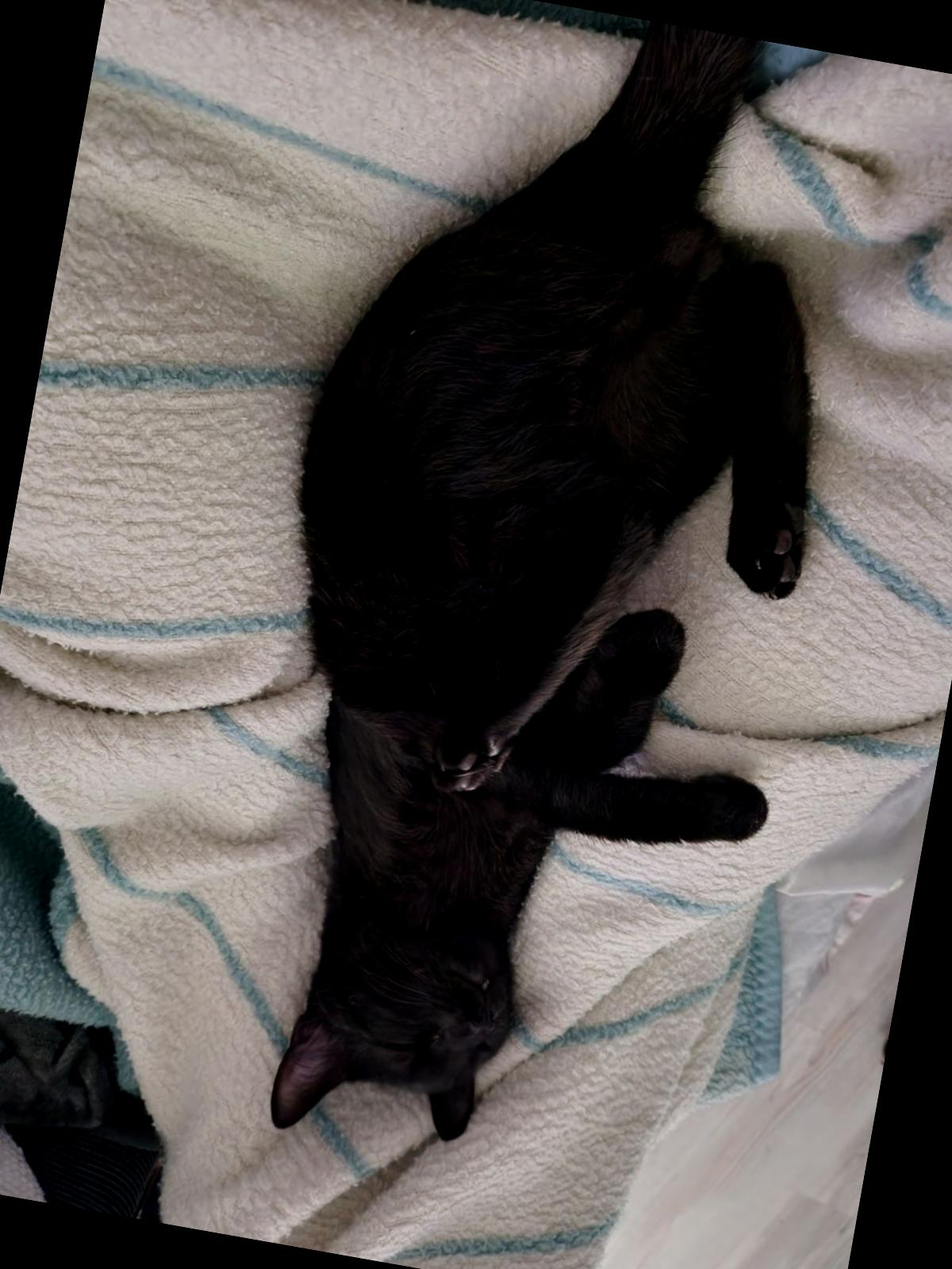macka: (187, 0, 893, 1201)
